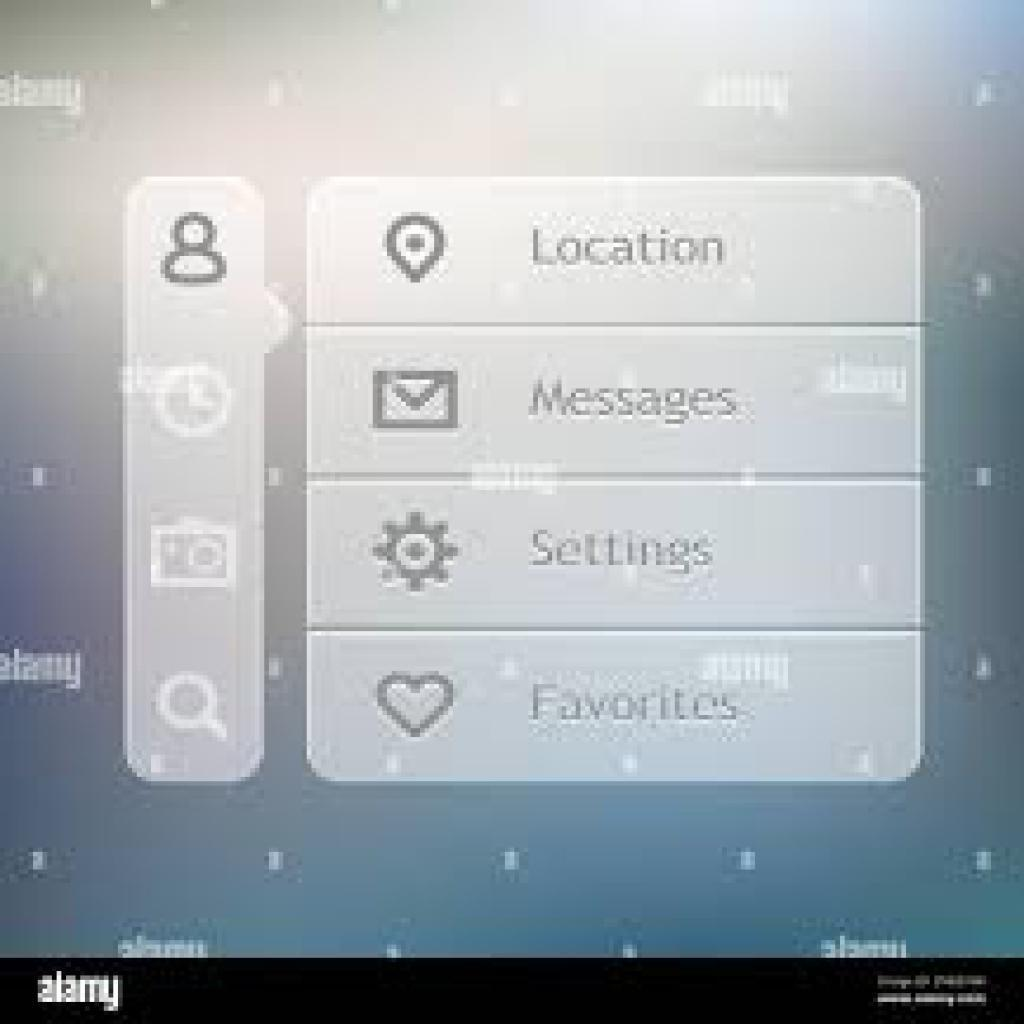icon: (367, 508, 471, 606), (152, 202, 240, 297), (148, 360, 239, 450), (149, 665, 247, 748), (147, 518, 238, 602), (378, 205, 460, 294), (378, 665, 464, 745), (374, 368, 469, 437)
label: (526, 369, 745, 435), (531, 672, 750, 729), (526, 216, 730, 275), (531, 526, 719, 577)
